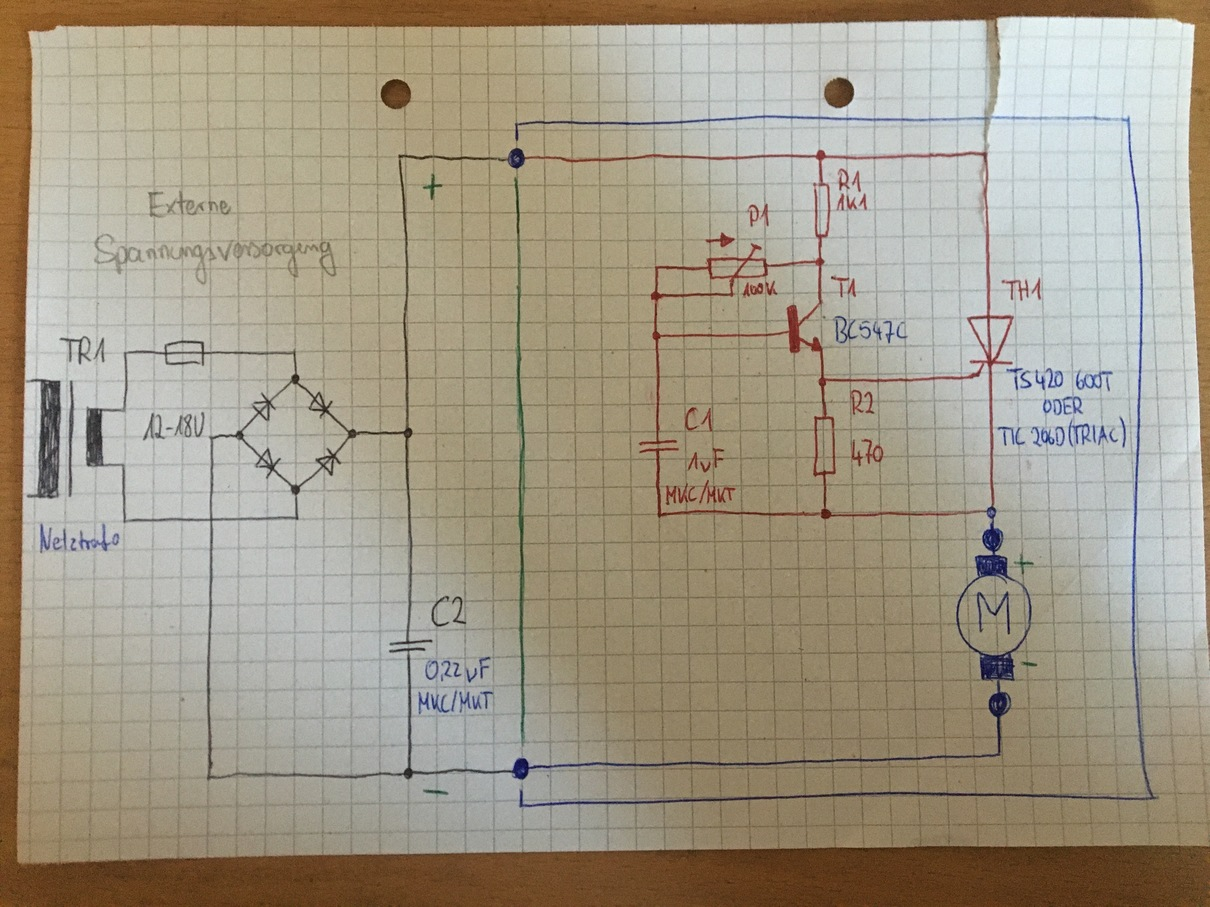capacitor.unpolarized: (387, 636, 435, 656), (637, 437, 682, 456)
crossover: (205, 512, 219, 526)
diode: (253, 447, 282, 480), (313, 446, 342, 477), (250, 391, 277, 423), (307, 391, 334, 419)
fuse: (162, 338, 208, 368)
junction: (983, 502, 1002, 522), (818, 506, 834, 522), (649, 289, 664, 304), (289, 482, 304, 497), (814, 147, 828, 163), (402, 766, 416, 781), (816, 375, 830, 389), (812, 255, 827, 268), (289, 372, 302, 387), (977, 148, 993, 160), (402, 425, 414, 440), (346, 428, 359, 440), (234, 429, 246, 442), (654, 509, 667, 521), (651, 330, 662, 343), (204, 771, 215, 784), (994, 748, 1007, 759), (396, 150, 406, 162), (652, 262, 663, 272), (289, 346, 299, 357), (292, 513, 302, 523), (207, 433, 217, 443), (120, 516, 130, 526), (119, 404, 129, 414), (727, 290, 737, 299), (119, 461, 129, 470), (121, 349, 130, 358)
motor: (953, 553, 1035, 681)
resistor: (811, 413, 839, 480), (811, 180, 833, 241)
resistor.adjustable: (705, 242, 769, 284)
terminal: (23, 491, 32, 501), (24, 376, 32, 386)
text: (92, 232, 338, 286), (997, 416, 1128, 450), (36, 520, 122, 555), (1005, 366, 1115, 393), (832, 313, 910, 347), (145, 189, 233, 219), (416, 687, 494, 716), (141, 409, 206, 442), (423, 655, 493, 685), (664, 478, 737, 506), (57, 333, 108, 366), (429, 594, 469, 629), (849, 436, 887, 469), (686, 446, 726, 475), (1000, 277, 1043, 303), (683, 404, 715, 433), (1040, 395, 1085, 415), (848, 388, 878, 416), (741, 280, 780, 300), (829, 273, 859, 299), (833, 192, 870, 213), (835, 166, 863, 193), (745, 202, 772, 229)
thyristor: (965, 313, 1017, 381)
transformer: (35, 375, 109, 502)
transistor: (785, 299, 827, 356)
